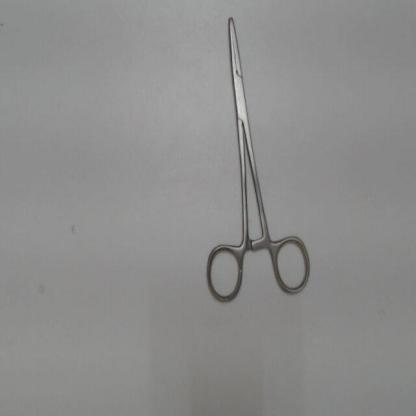Mayo Needle Holder: (201, 8, 317, 308)
